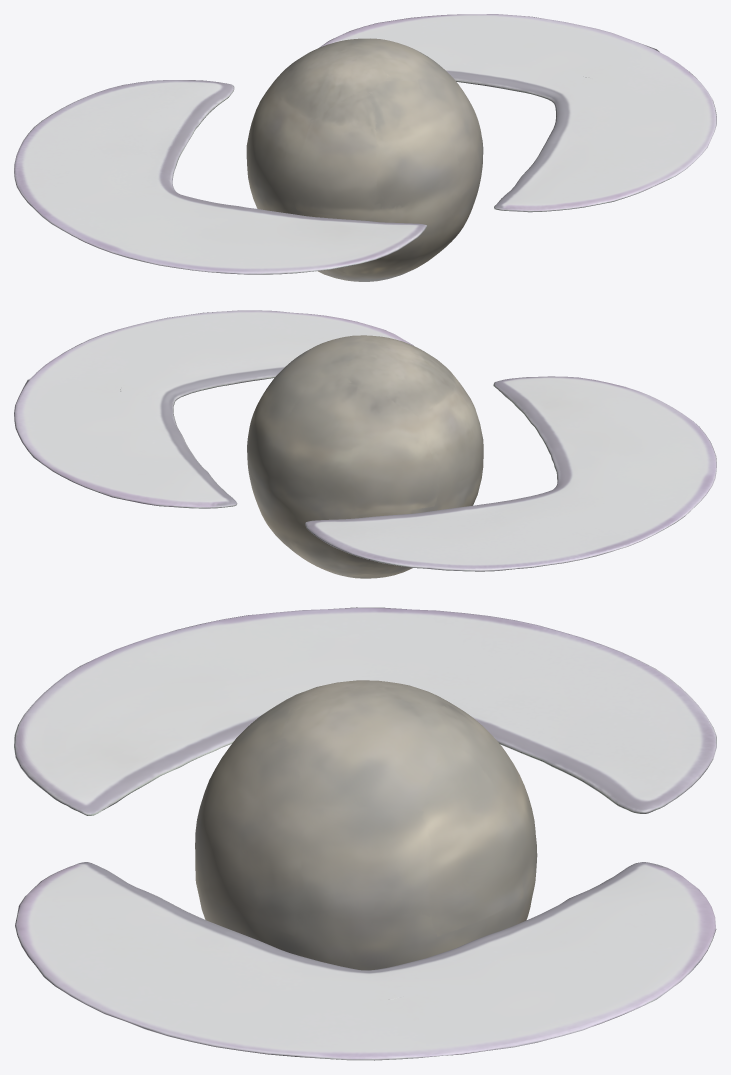
3 views of the same model, one above another, from view 1: azimuth 30°, elevation 25°; view 2: azimuth 150°, elevation 25°; view 3: azimuth 270°, elevation 25° (orthographic). The views are drawn at different scales.
Parts seen in each view (by area): view 1: Mesh; view 2: Mesh; view 3: Mesh.
Part boxes in pixels (<box>): Mesh: <box>14,14,716,281</box>; Mesh: <box>14,310,716,578</box>; Mesh: <box>14,607,716,1060</box>.
Size of the model in its own units: 0.9821 by 0.329 by 0.6462.
1 material, 1 textured.
